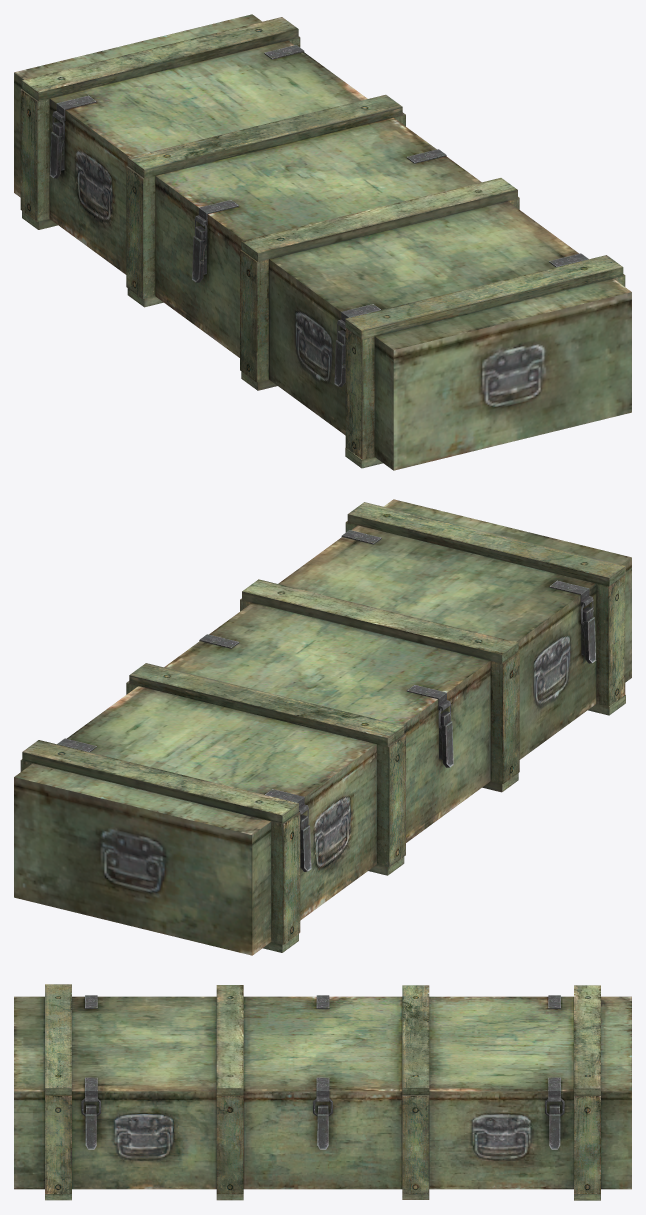
Rendered from VV_Airfield_Crate_2.fbx.
3 views of the same model, one above another, from view 1: azimuth 30°, elevation 25°; view 2: azimuth 150°, elevation 25°; view 3: azimuth 270°, elevation 25° (orthographic). The views are drawn at different scales.
Parts seen in each view (by area): view 1: VV_Airfield_Crate_2; view 2: VV_Airfield_Crate_2; view 3: VV_Airfield_Crate_2.
Boxes of the visible parts, box(x1,y1,x2,y2) form: VV_Airfield_Crate_2: box(14, 14, 631, 470); VV_Airfield_Crate_2: box(14, 499, 631, 955); VV_Airfield_Crate_2: box(14, 984, 631, 1200).
Bounding box in the file's own units: 63.02 × 31.45 × 157.
1 material, 1 textured.
